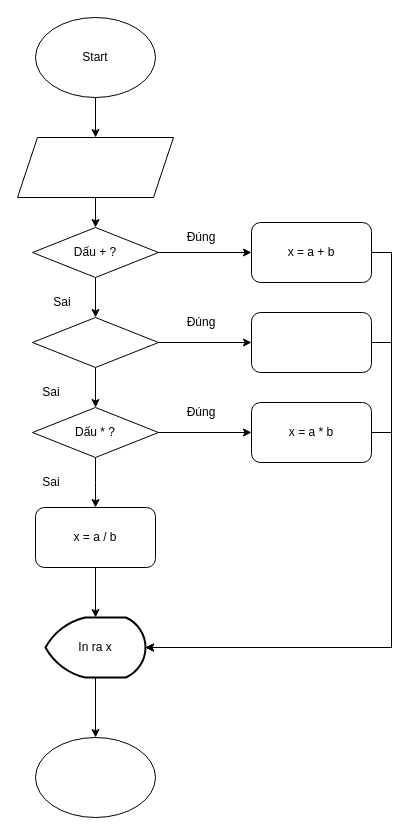
The diagram is 417 pixels wide and 835 high, and some of its shapes have lost their labels. Each missing label, with the centre of its shape:
"Dấu - ?" belongs at point 95,342.
"Nhập a, b, dấu phép tính" belongs at point 95,167.
"Stop" belongs at point 95,777.
"x = a - b" belongs at point 311,342.
